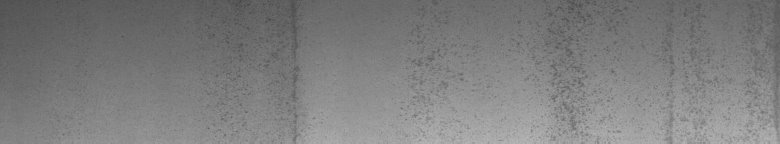ib: (406, 40, 463, 119)
